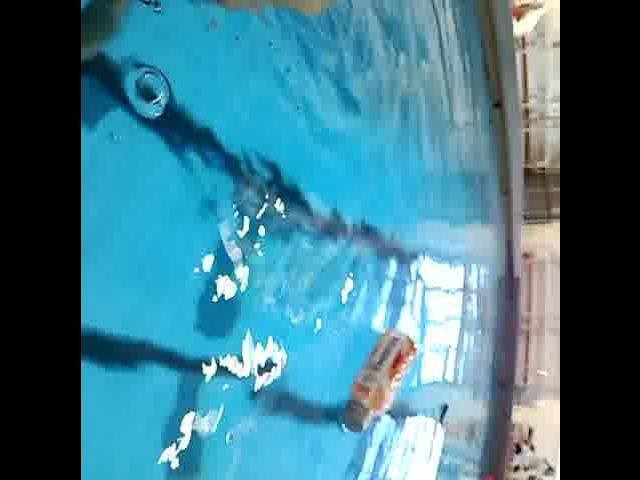Bottle: (338, 324, 420, 436)
